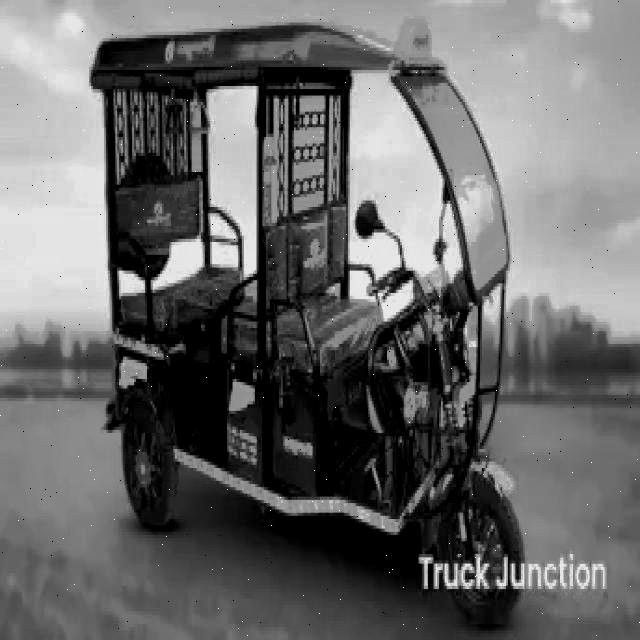Toto: (90, 19, 520, 630)
